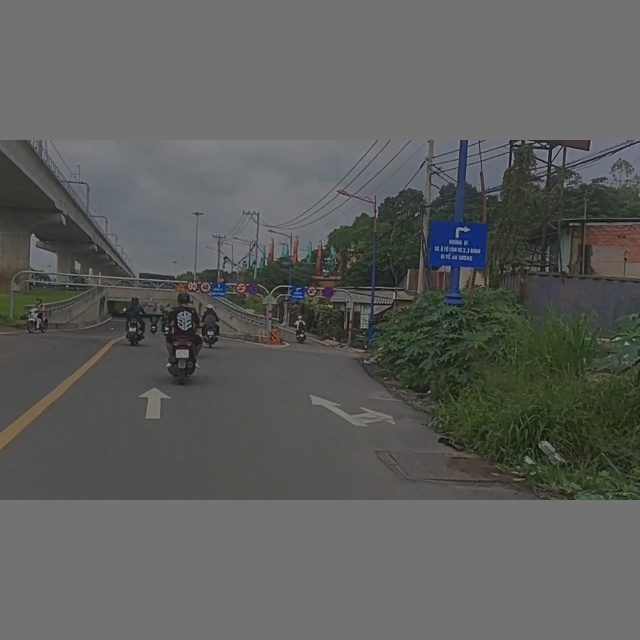P.107: (235, 282, 247, 293), (306, 286, 318, 297)
P.117*: (186, 280, 199, 292)
P.127*40: (199, 281, 212, 293)
P.130: (248, 283, 259, 295), (323, 286, 334, 298)
